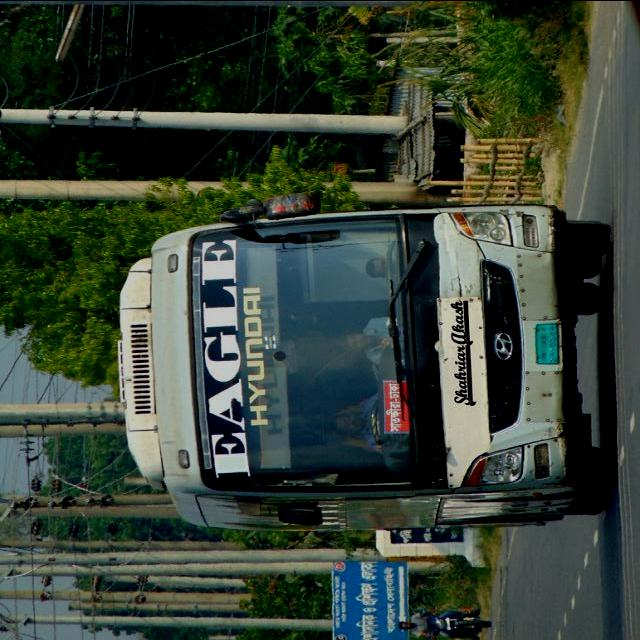bus: (117, 192, 617, 534)
